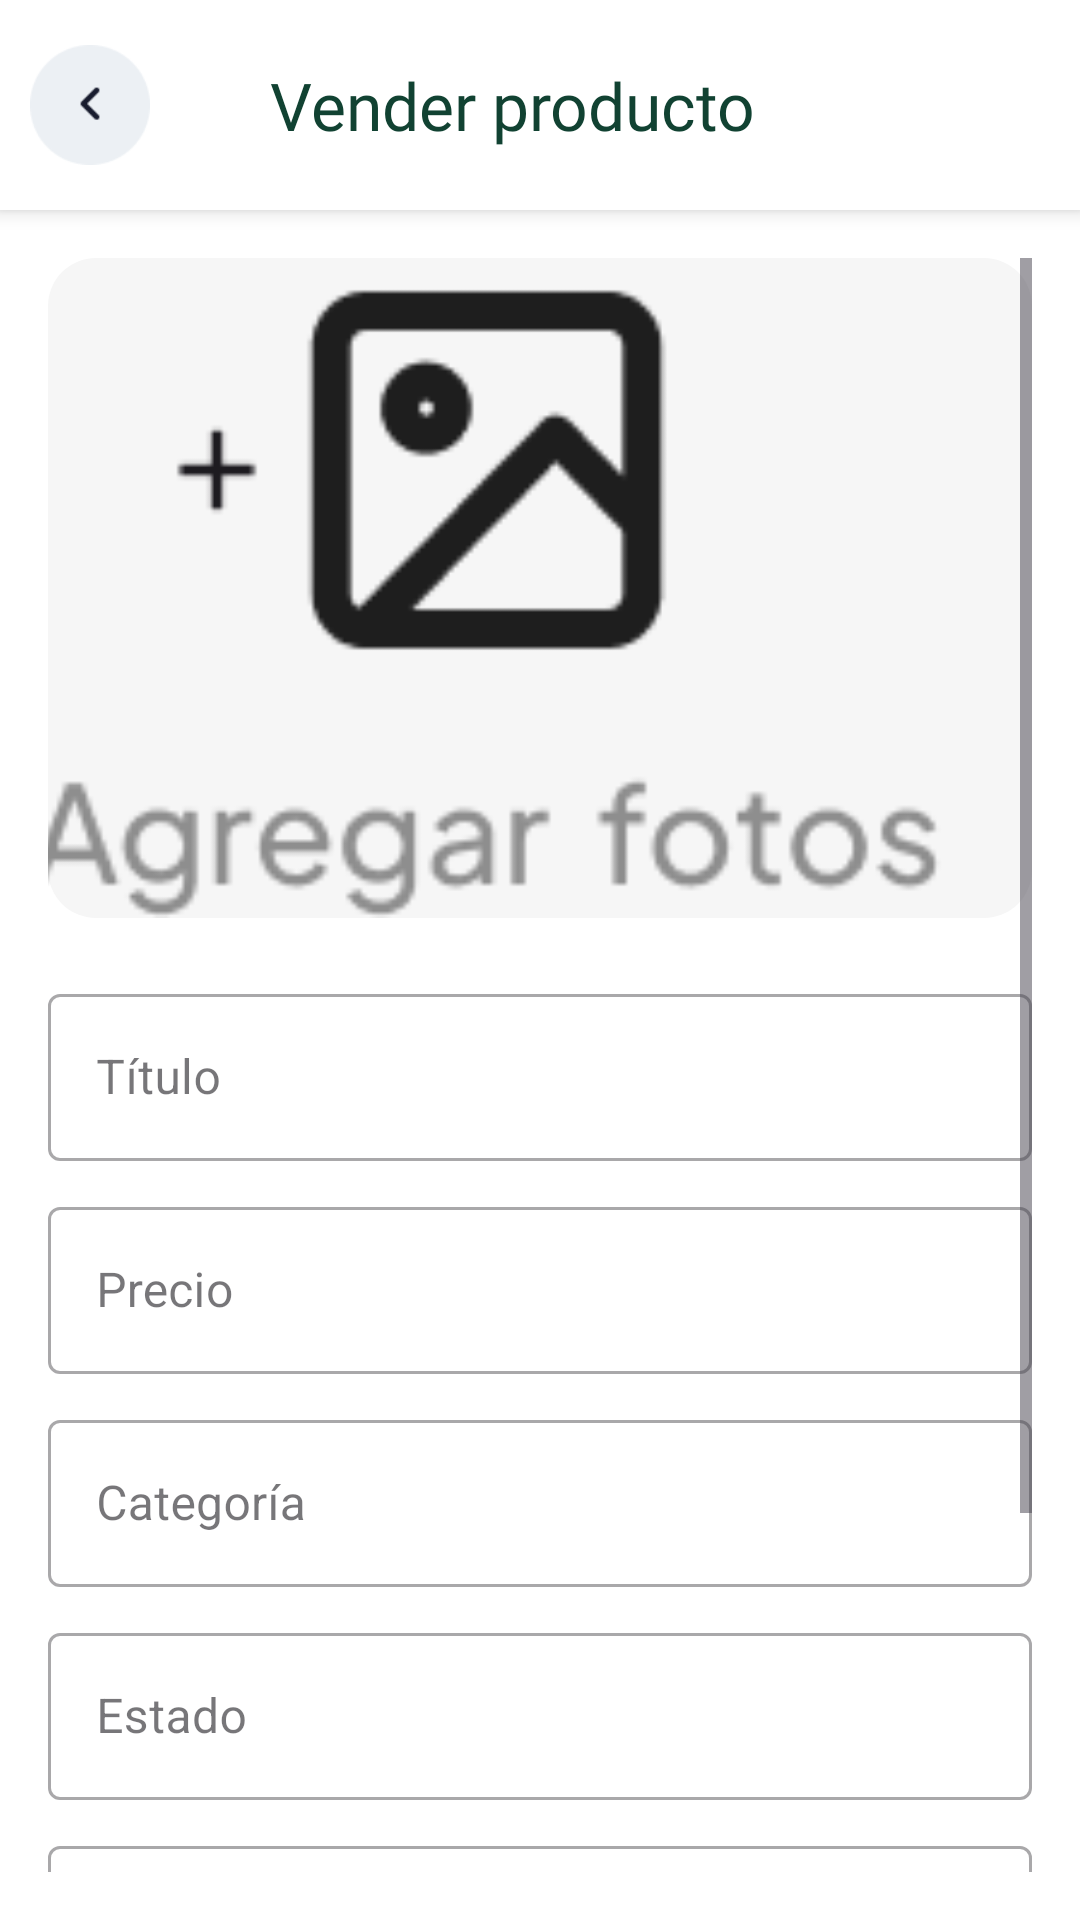

Locate icon controls on the screen. Image size 1080 x 1920, boxes as rect(x1, y1, x2, y2).
retroceder: rect(80, 87, 100, 120)
